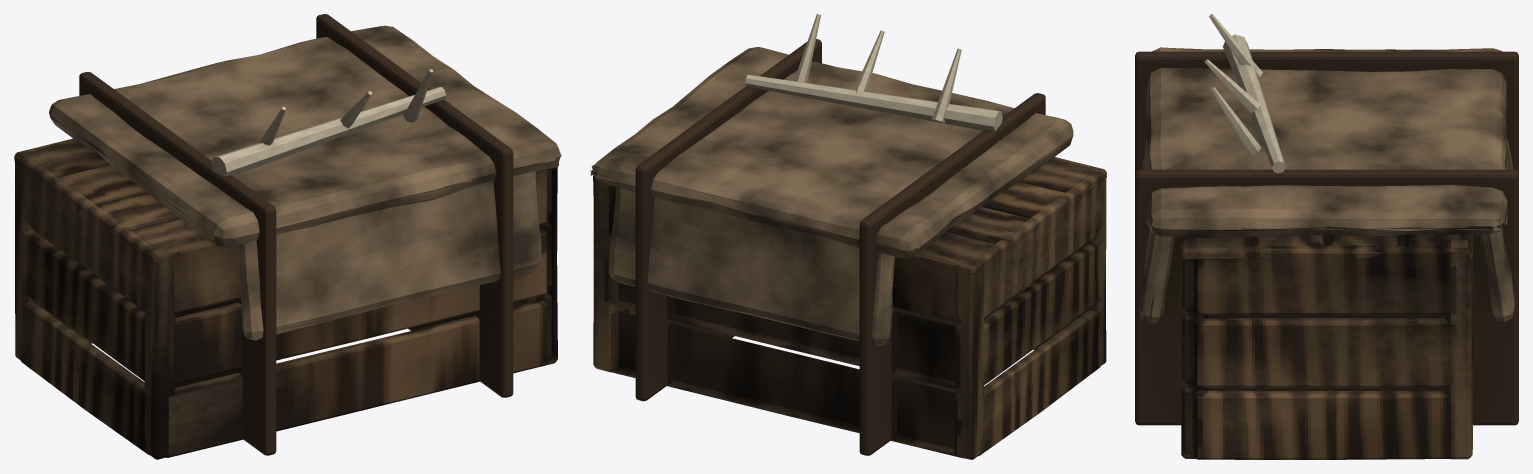
Rendered from poi_collector_snow.glb.
The picture shows the model from 3 angles, left to right: view 1: azimuth 30°, elevation 25°; view 2: azimuth 150°, elevation 25°; view 3: azimuth 270°, elevation 25°; orthographic projection. The views are drawn at different scales.
Visible parts, largest first — view 1: poi_collector_snow; view 2: poi_collector_snow; view 3: poi_collector_snow.
Part boxes in pixels (left/top/right/bottom): poi_collector_snow: left=14, top=14, right=561, bottom=459; poi_collector_snow: left=590, top=14, right=1106, bottom=459; poi_collector_snow: left=1135, top=14, right=1518, bottom=459.
Bounding box in the file's own units: 0.8232 × 0.6031 × 0.66.
Materials: 4 (4 with a texture image).
